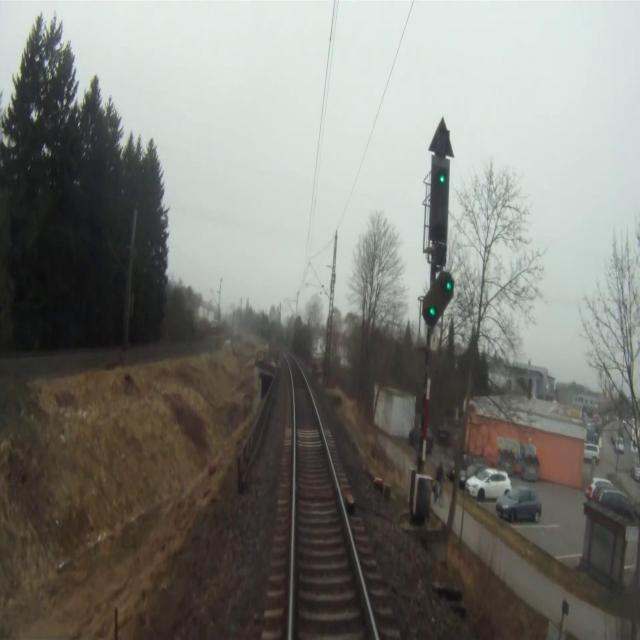rail-track: (286, 354, 374, 639)
